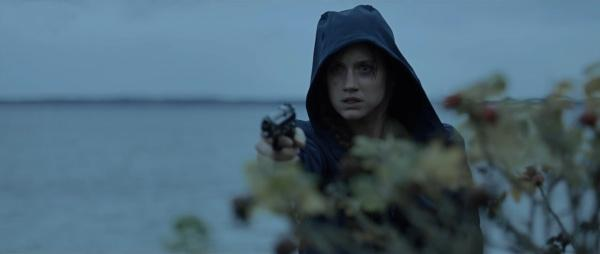Gun: (261, 103, 298, 152)
